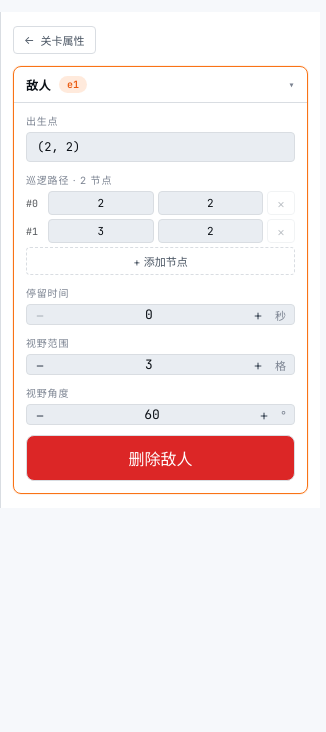
Test: EditorPropertiesPanel (P2-4b #12) › Back to level affordance › renders the back button on the enemy form and clicking it clears the selection
The width and height of the screenshot is (326, 732).
Expected: the element with test id "enemy-form" is shown, left=13, top=26, right=308, bottom=494
Click the button with test id "back-to-level".
click(54, 40)  # box left=13, top=26, right=96, bottom=54
(page scrolled)
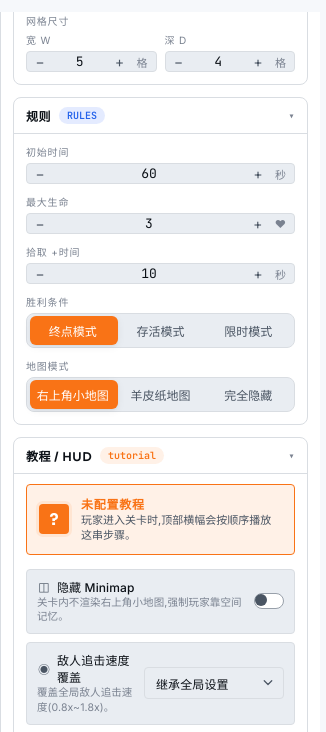
Now the element with test id "level-metadata-form" is shown
